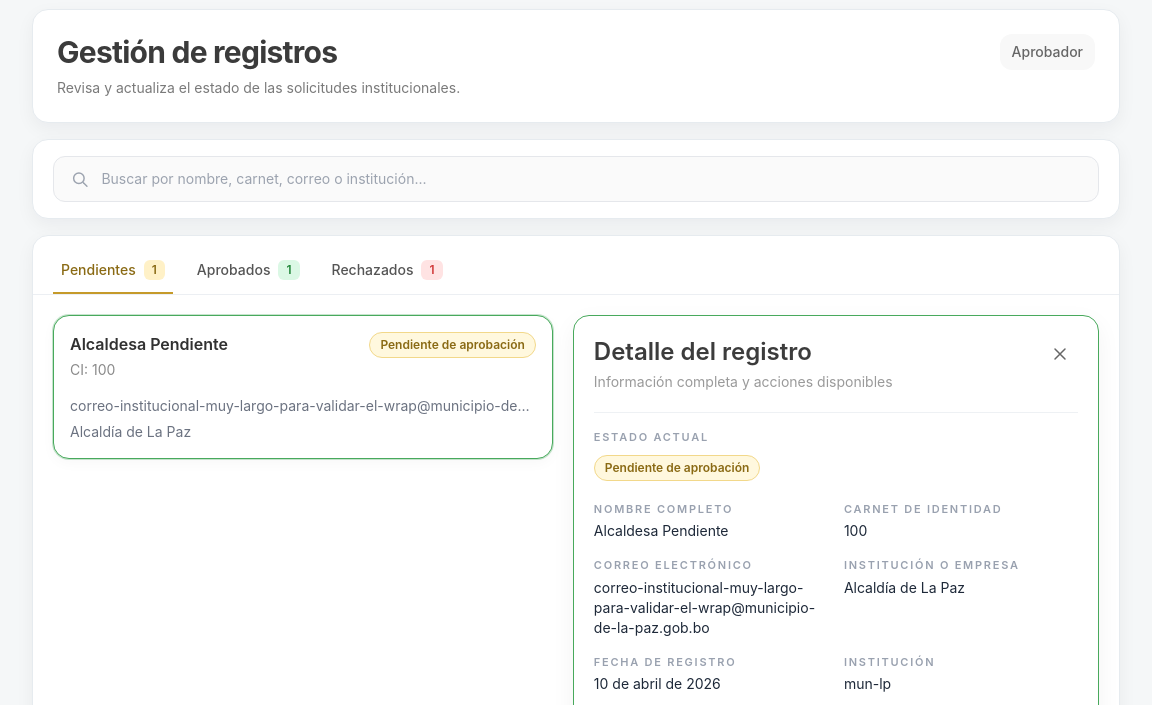
it: MX-10 | aprobaciones de acceso territorial › [MX-10][CON-ACC-P0-003][INTEGRACION] rechaza una solicitud pendiente y conserva la razón operativa en el detalle
Click the button "Alcaldesa Pendiente" at [149, 344], box [53,315,553,459]
(page scrolled)
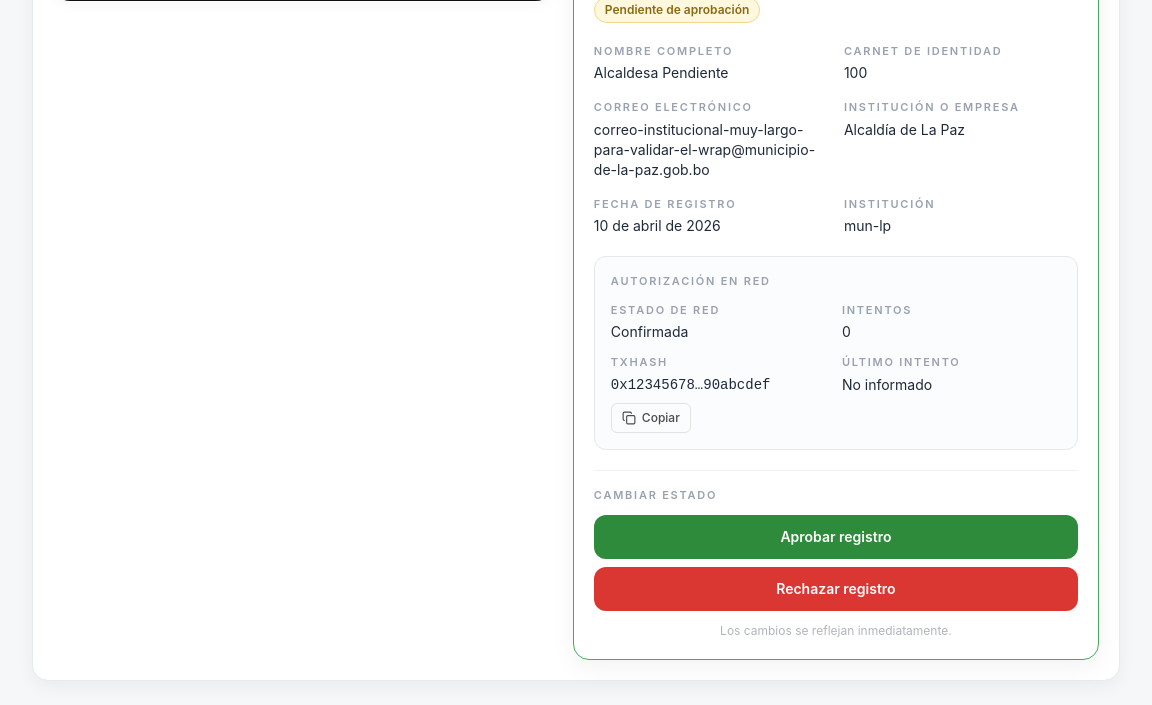
Click the button "Rechazar registro" at [836, 589], box [594,567,1078,611]
(page scrolled)
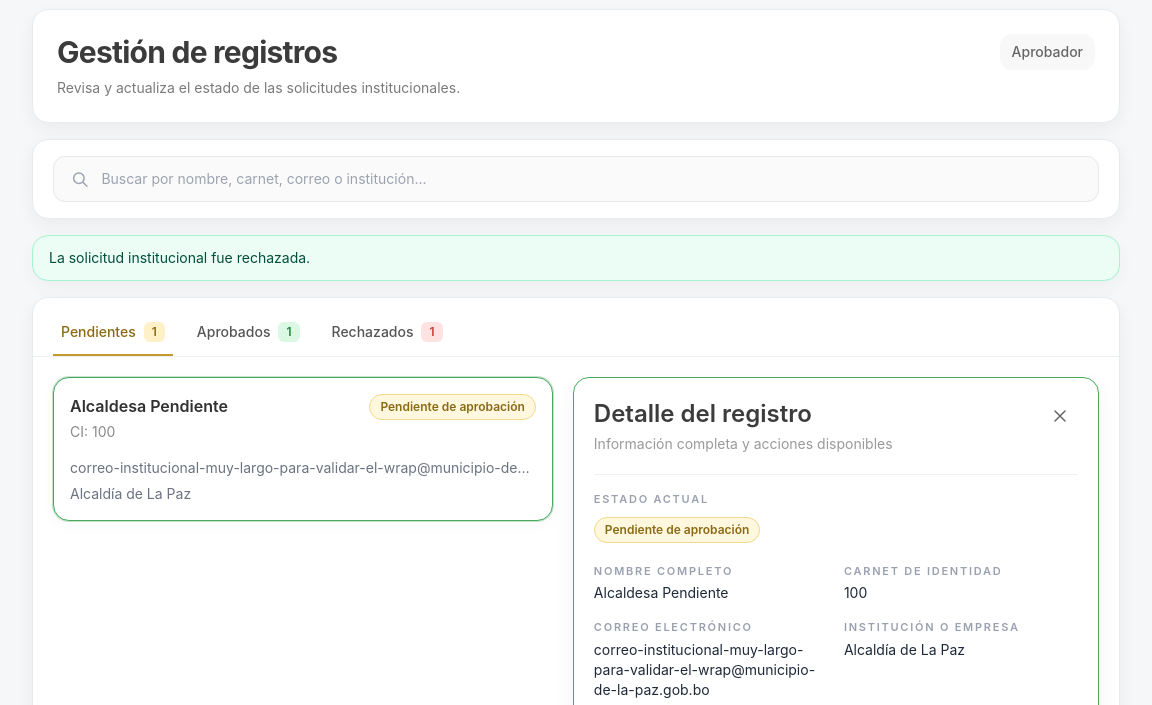
Check: the text "La solicitud institucional fue rechazada." is shown, box [32,235,1120,281]
